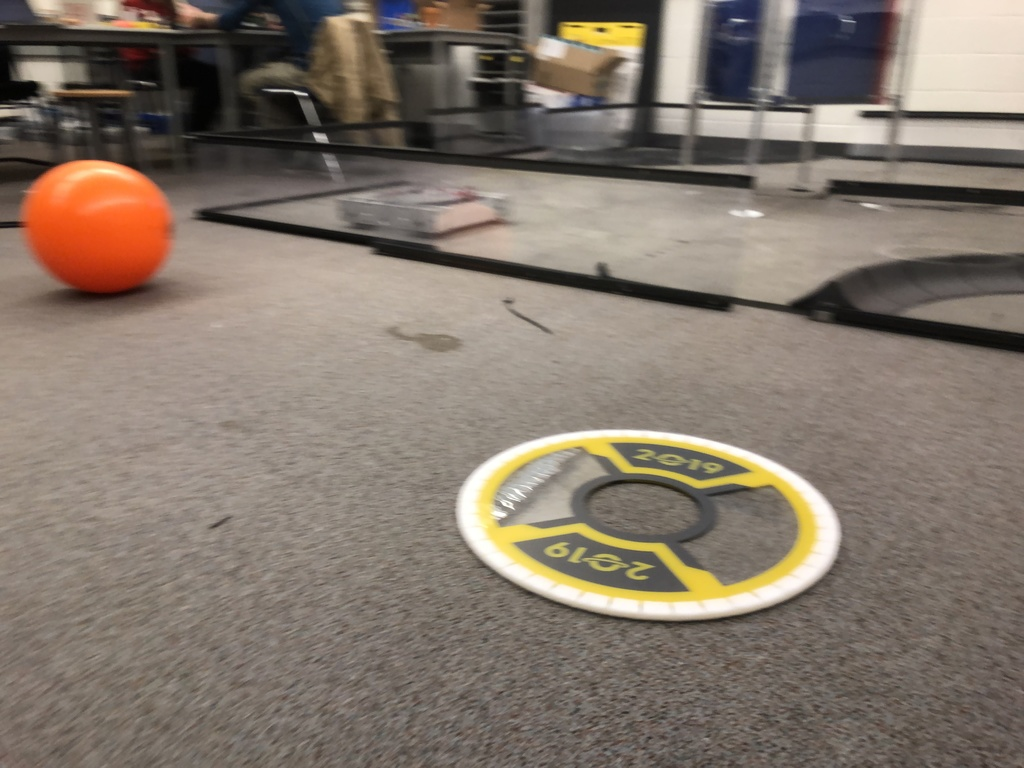hatch_panel: (444, 417, 873, 634)
